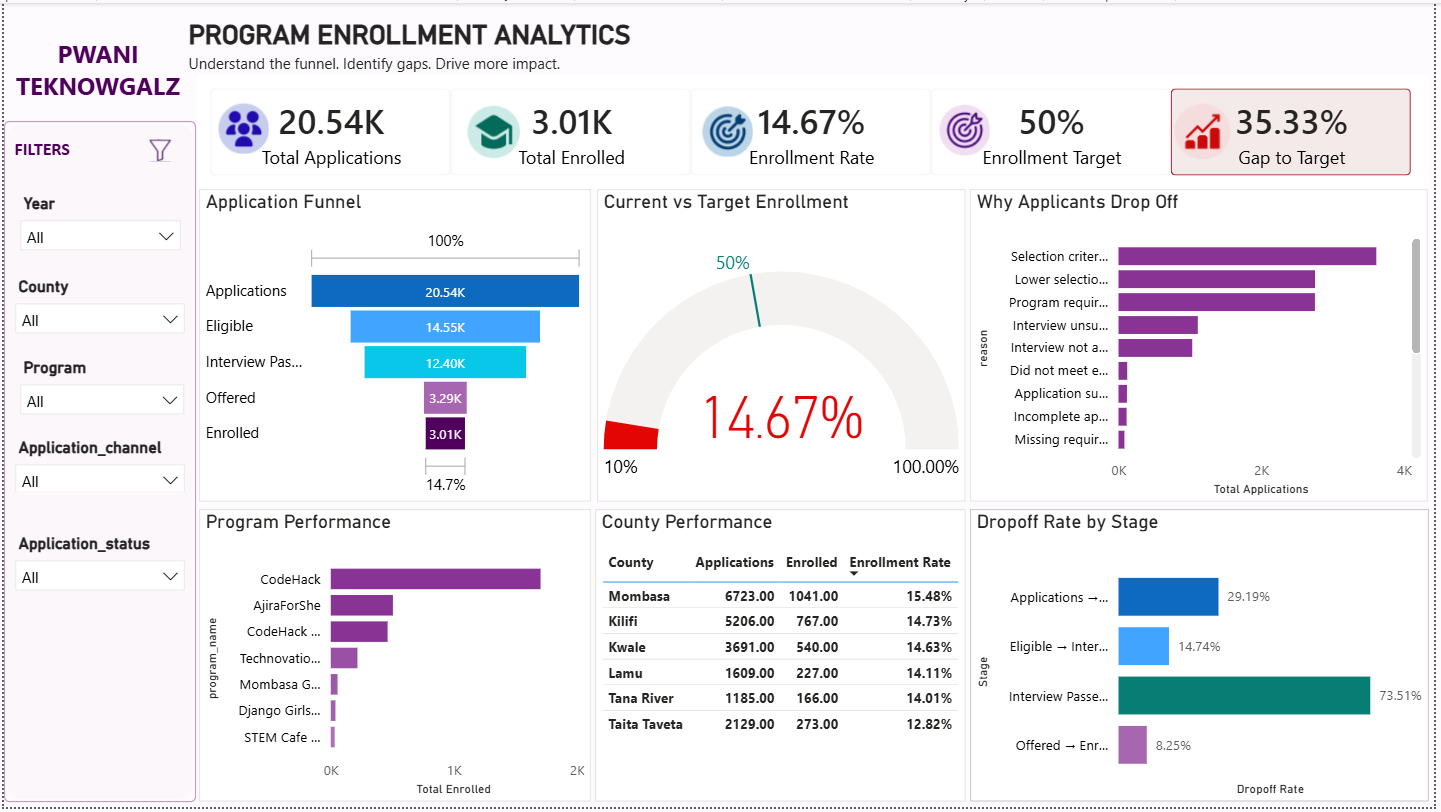

Layout of this report page (visuals, bound fields, positions):
{"tool":"powerbi","page":{"name":"Page 2","canvas":[1280,720],"ordinal":0},"visuals":[{"type":"shape","box":[0,105.2,171.6,610.4],"z":0},{"type":"cardVisual","fields":{"Data":["Meaures.Total Applications","Meaures.Total Enrolled","Meaures.Enrollment Rate","Meaures.Enrollment Target","Meaures.Gap to Target"]},"box":[173.3,64.8,1102.7,102],"z":1000},{"type":"textbox","box":[160.3,9.7,502,50.2],"z":2000},{"type":"textbox","box":[160.3,40.5,502,40.5],"z":3000},{"type":"funnel","title":"Application Funnel","fields":{"Category":["Funnel Stages.Stage"],"Y":["Funnel Stages.Funnel Applicants"]},"box":[174.9,166.8,351.4,280.1],"z":4000},{"type":"clusteredBarChart","fields":{"Category":["Dropoff Stages.Stage"],"Y":["Dropoff Stages.Dropoff Rate"]},"box":[864.7,453.4,411.3,262.3],"z":5000},{"type":"barChart","title":"Why Applicants Drop Off","fields":{"Category":["pwani_teknowgalz dim_exit_reasons.reason"],"Y":["Meaures.Total Applications"]},"box":[864.7,166.8,409.7,280.1],"z":6000},{"type":"tableEx","title":"County Performance","fields":{"Values":["pwani_teknowgalz dim_counties.county_name","Meaures.Total Applications","Meaures.Total Enrolled","Meaures.Enrollment Rate"]},"box":[529.5,453.4,331.9,262.3],"z":7000},{"type":"clusteredBarChart","title":"Program Performance","fields":{"Category":["pwani_teknowgalz dim_programs.program_name"],"Y":["Meaures.Total Enrolled"]},"box":[174.9,453.4,351.4,262.3],"z":8000},{"type":"gauge","title":"Current vs Target Enrollment","fields":{"MinValue":["Meaures.max value"],"TargetValue":["Meaures.Enrollment Target"],"Y":["Meaures.Enrollment Rate"]},"box":[531.1,166.8,330.3,280.1],"z":9000},{"type":"slicer","fields":{"Values":["pwani_teknowgalz dim_counties.county_name"]},"box":[0,240.9,171.6,59.9],"z":10000},{"type":"slicer","fields":{"Values":["pwani_teknowgalz dim_programs.program_name"]},"box":[4.9,313.7,166.8,59.9],"z":11000},{"type":"slicer","fields":{"Values":["pwani_teknowgalz dim_channels.channel_name"]},"box":[0,385,171.6,51.8],"z":12000},{"type":"slicer","fields":{"Values":["pwani_teknowgalz fact_applications.application_status"]},"box":[0,470.8,171.6,59.9],"z":13000},{"type":"textbox","box":[4.9,116.6,84.2,37.2],"z":14000},{"type":"textbox","box":[0,25.9,168.4,79.3],"z":15000},{"type":"actionButton","box":[1044.4,85.8,77.7,58.3],"z":16000},{"type":"actionButton","box":[411.3,85.8,55.1,58.3],"z":17000},{"type":"actionButton","box":[621.8,89.1,58.3,53.4],"z":18000},{"type":"actionButton","box":[187.8,85.8,56.7,53.4],"z":19000},{"type":"actionButton","box":[126.3,118.2,40.5,27.5],"z":20000},{"type":"actionButton","box":[833.9,84.2,53.4,59.9],"z":21000},{"type":"slicer","fields":{"Values":["pwani_teknowgalz dim_programs.launch_year"]},"box":[4.9,166.8,163.5,63.1],"z":22000}]}

Visuals, with their boxes in screenshot pixels (x1, y1, x2, y2), scaled from the page's 1280x720 canvas onto the 1441x812 screenshot:
shape: pyautogui.locateOnScreen(0, 119, 193, 807)
cardVisual - Meaures.Total Applications x Meaures.Total Enrolled: pyautogui.locateOnScreen(195, 73, 1436, 188)
textbox: pyautogui.locateOnScreen(180, 11, 746, 68)
textbox: pyautogui.locateOnScreen(180, 46, 746, 91)
"Application Funnel" funnel: pyautogui.locateOnScreen(197, 188, 592, 504)
clusteredBarChart - Dropoff Stages.Stage x Dropoff Stages.Dropoff Rate: pyautogui.locateOnScreen(973, 511, 1436, 807)
"Why Applicants Drop Off" barChart: pyautogui.locateOnScreen(973, 188, 1435, 504)
"County Performance" tableEx: pyautogui.locateOnScreen(596, 511, 970, 807)
"Program Performance" clusteredBarChart: pyautogui.locateOnScreen(197, 511, 592, 807)
"Current vs Target Enrollment" gauge: pyautogui.locateOnScreen(598, 188, 970, 504)
slicer - pwani_teknowgalz dim_counties.county_name: pyautogui.locateOnScreen(0, 272, 193, 339)
slicer - pwani_teknowgalz dim_programs.program_name: pyautogui.locateOnScreen(6, 354, 193, 421)
slicer - pwani_teknowgalz dim_channels.channel_name: pyautogui.locateOnScreen(0, 434, 193, 493)
slicer - pwani_teknowgalz fact_applications.application_status: pyautogui.locateOnScreen(0, 531, 193, 599)
textbox: pyautogui.locateOnScreen(6, 131, 100, 173)
textbox: pyautogui.locateOnScreen(0, 29, 190, 119)
actionButton: pyautogui.locateOnScreen(1176, 97, 1263, 163)
actionButton: pyautogui.locateOnScreen(463, 97, 525, 163)
actionButton: pyautogui.locateOnScreen(700, 100, 766, 161)
actionButton: pyautogui.locateOnScreen(211, 97, 275, 157)
actionButton: pyautogui.locateOnScreen(142, 133, 188, 164)
actionButton: pyautogui.locateOnScreen(939, 95, 999, 163)
slicer - pwani_teknowgalz dim_programs.launch_year: pyautogui.locateOnScreen(6, 188, 190, 259)
